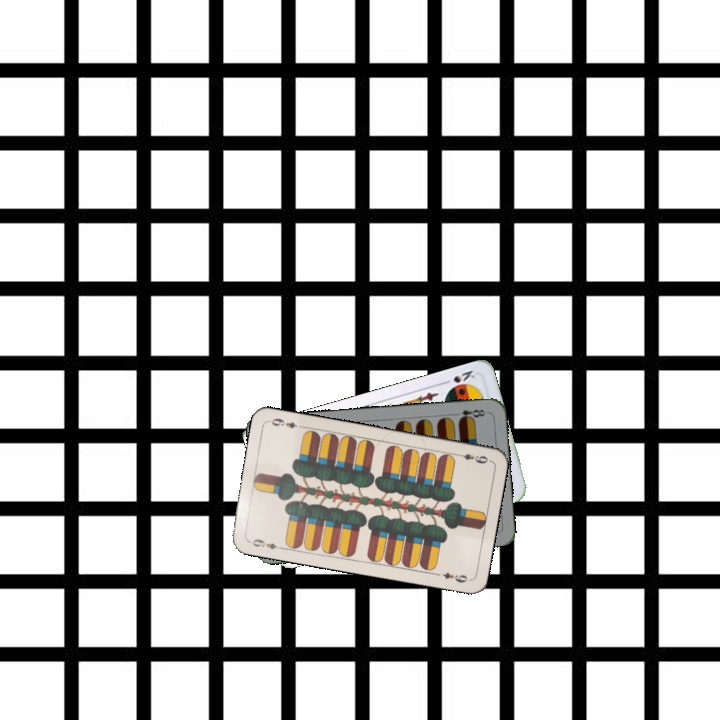E8: (449, 406, 490, 423)
E9: (245, 535, 285, 552), (452, 449, 490, 466)
SK: (438, 366, 478, 387)
